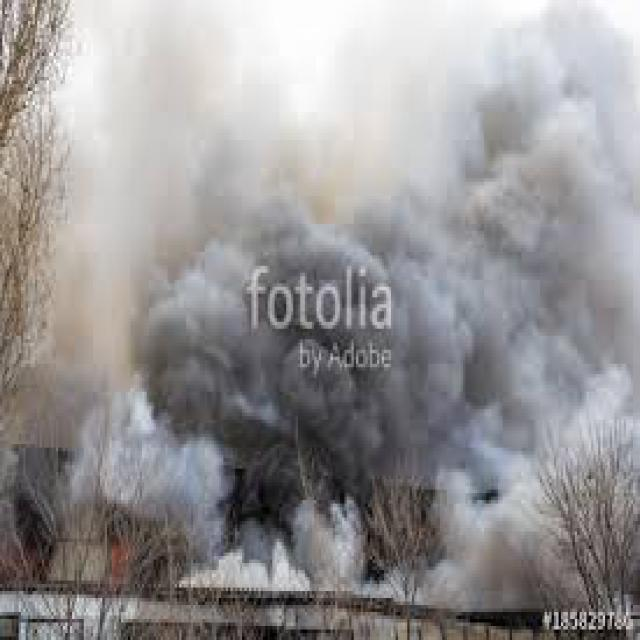Smoke: (53, 49, 638, 588)
